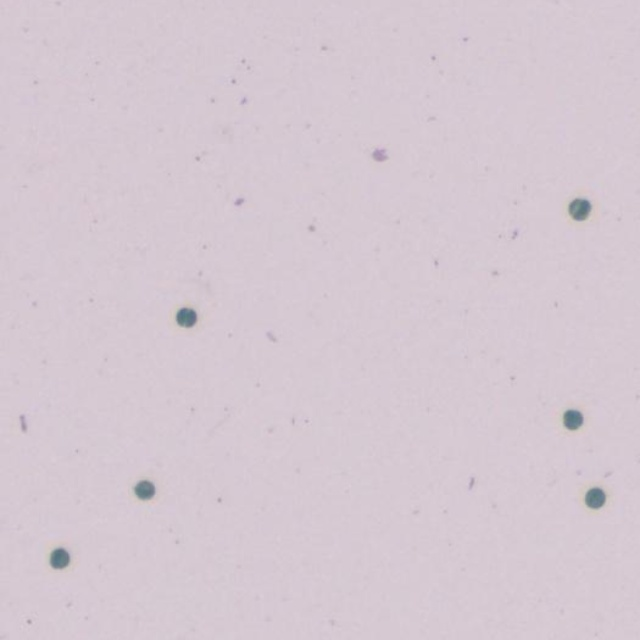non_viable: (568, 197, 590, 221), (49, 547, 69, 568), (176, 307, 196, 327), (585, 488, 605, 508), (134, 480, 155, 499), (563, 410, 583, 429)
